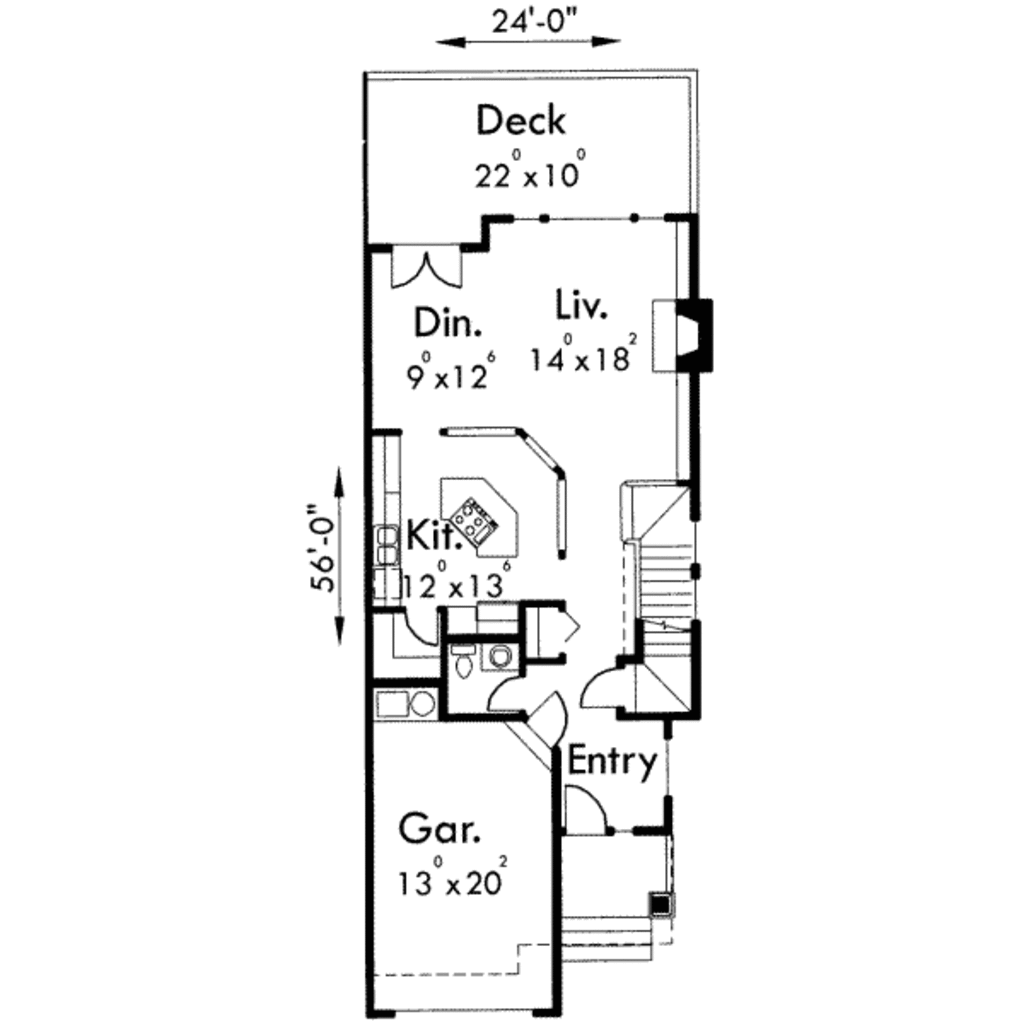door: (375, 232, 477, 300), (555, 772, 620, 843), (525, 687, 583, 749), (575, 665, 639, 708), (398, 603, 450, 654), (483, 672, 532, 718)
kitchen_bar: (426, 472, 540, 584)
large_sink: (436, 638, 482, 686)
small_sink: (482, 632, 518, 673)
stairs: (612, 473, 698, 714)
twin_sink: (366, 505, 415, 573)
